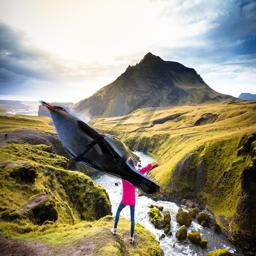Cuckoo: (38, 99, 160, 194)
